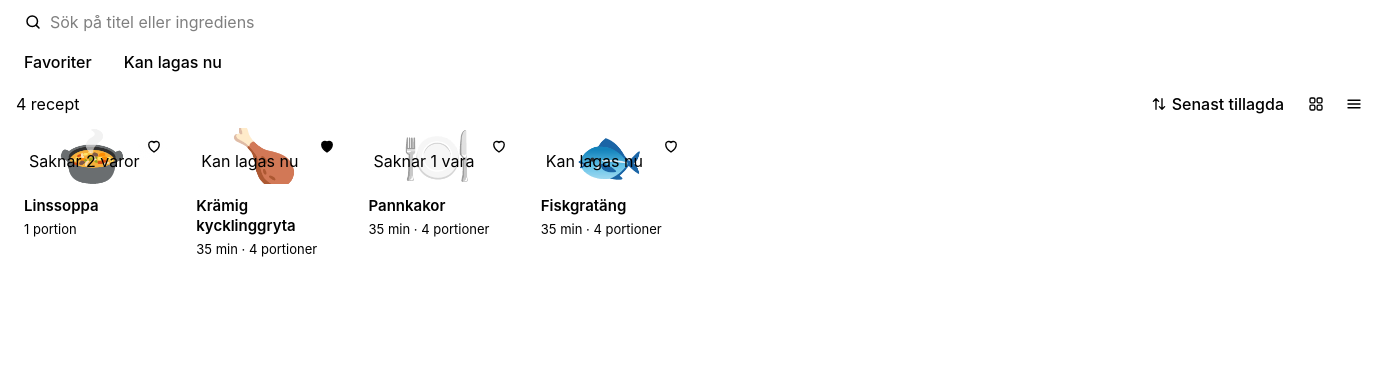
Test case: Library, the line Boende › has no line on no hits, after a failed search, or when the search could not read the pantry
Click the button "Kan lagas nu". click: x=173, y=62
box: [112,46,234,78]
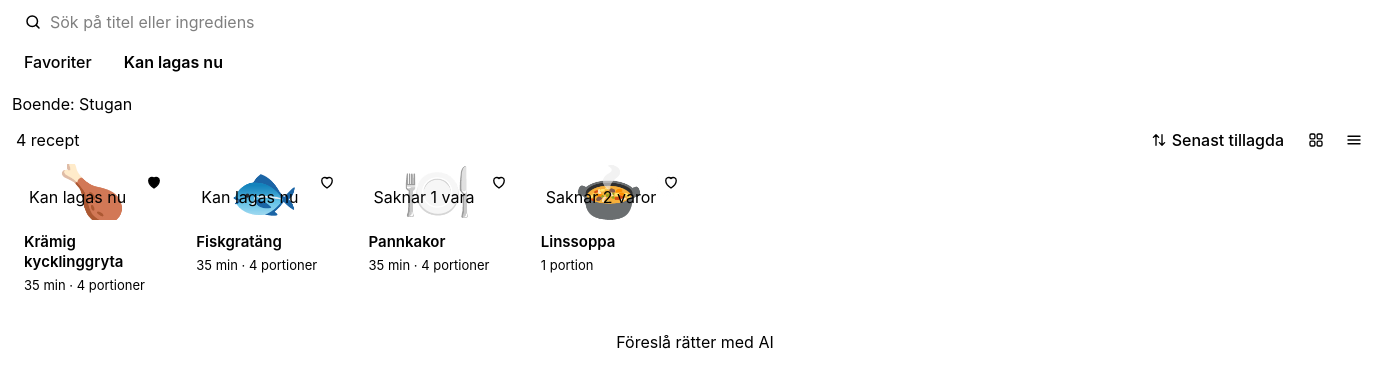
Type "xyz" into the search field named "Sök recept". click: x=714, y=22
box: [50,12,1378,32]
Then press Enter
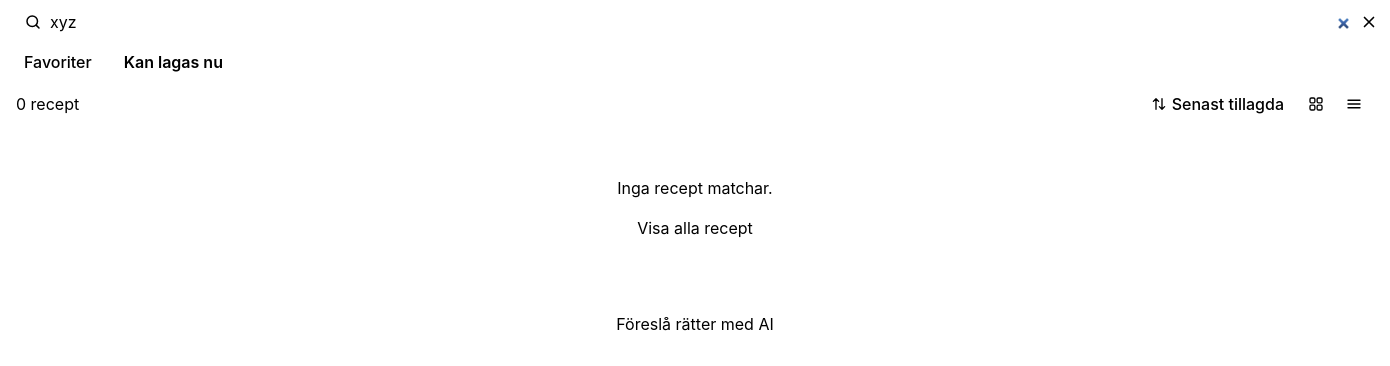
Expected: the text "Inga recept matchar." is shown, [617,176,773,200]
Expected: the text "Boende:" is gone
Clear the search field named "Sök recept". click: x=701, y=22
box: [50,12,1352,32]
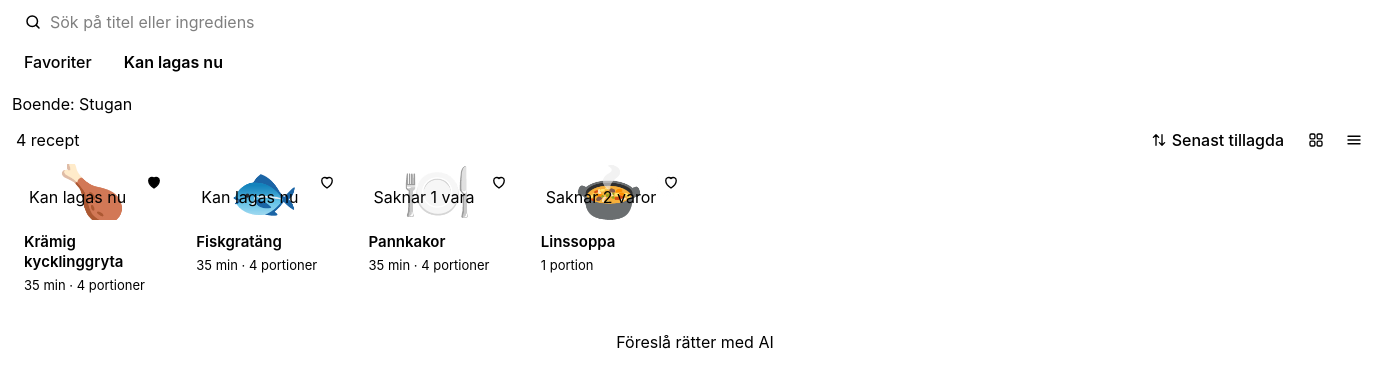
Type "lin" into the search field named "Sök recept". click: x=714, y=22
box: [50,12,1378,32]
Then press Enter
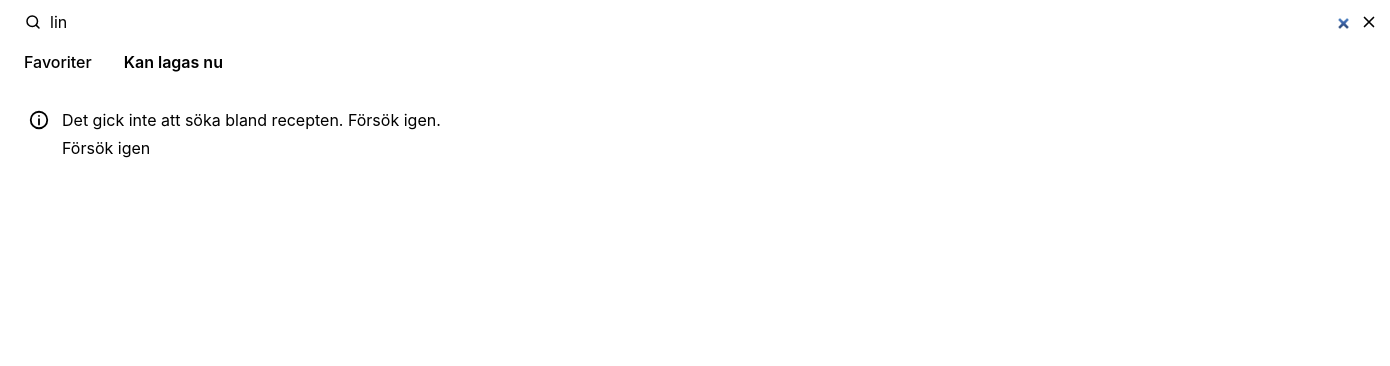
Expected: the message "Det gick inte att söka bland recepten. Försök igen." is shown, [62,108,441,132]
Expected: the text "Boende:" is gone
Clear the search field named "Sök recept". click: x=701, y=22
box: [50,12,1352,32]
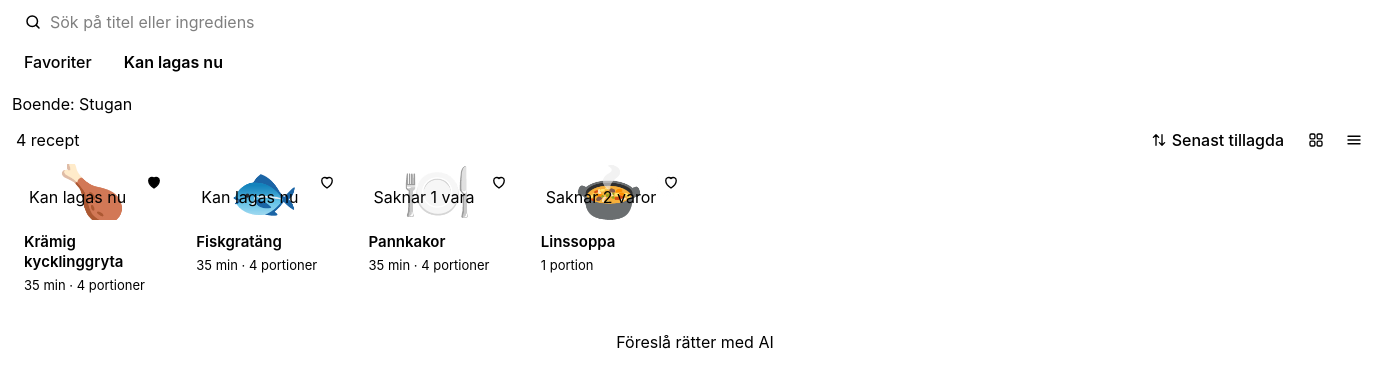
Type "sop" into the search field named "Sök recept". click: x=714, y=22
box: [50,12,1378,32]
Then press Enter
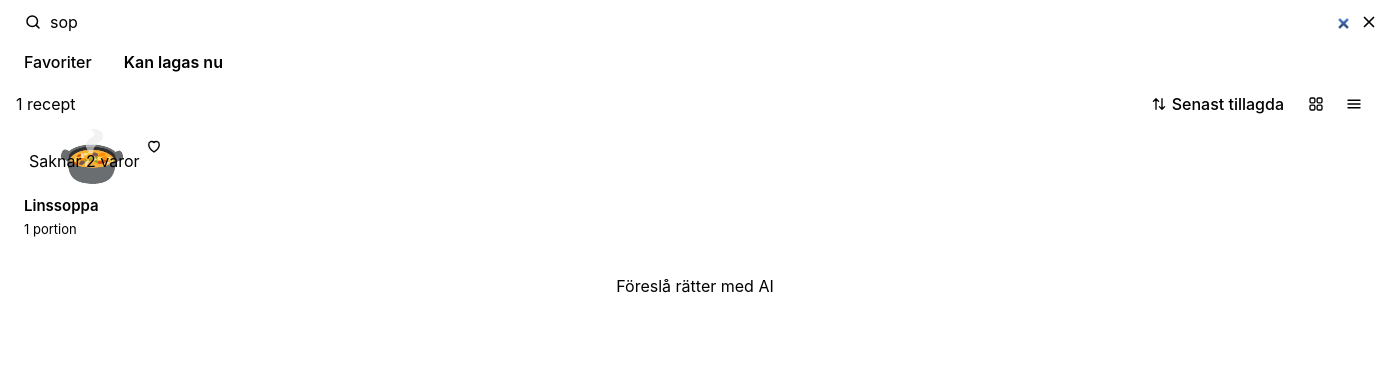
Expected: the text "Boende:" is gone
